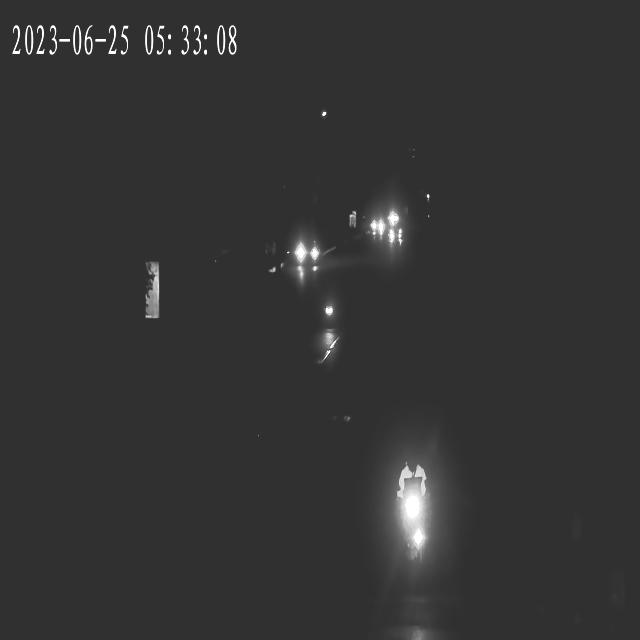Car: (290, 222, 322, 272), (368, 213, 388, 242), (387, 204, 403, 228), (391, 230, 408, 252)
Motorcycle: (398, 452, 436, 586), (320, 292, 340, 354)
